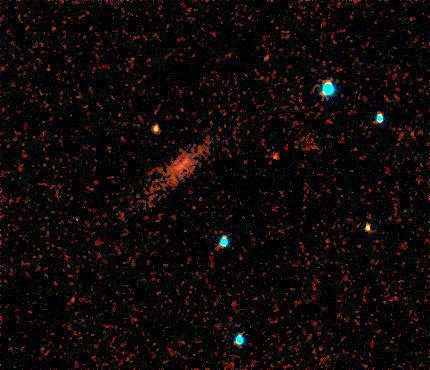star: (57, 285, 87, 315)
